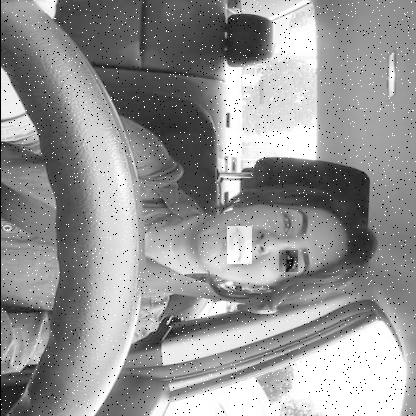seatbelt: (0, 177, 380, 314)
